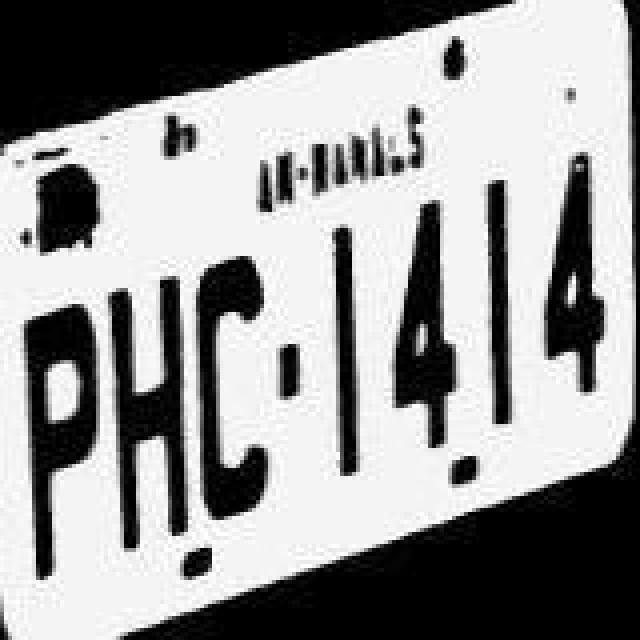1: (322, 224, 374, 480), (478, 166, 522, 426)
4: (536, 146, 616, 430), (386, 204, 470, 452)
C: (190, 252, 282, 532)
H: (104, 256, 192, 552)
P: (20, 288, 104, 576)
